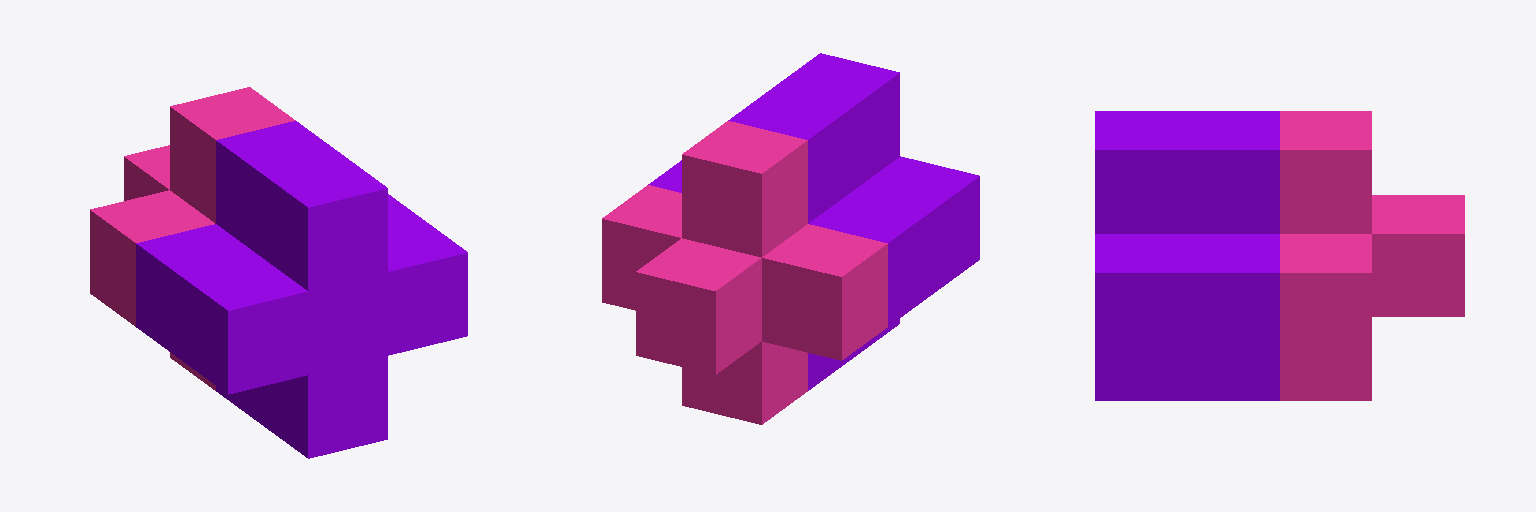
3 views of the same model, side by side, from view 1: azimuth 30°, elevation 25°; view 2: azimuth 150°, elevation 25°; view 3: azimuth 270°, elevation 25° (orthographic).
Visible parts, largest first — view 1: object 1; view 2: object 1; view 3: object 1.
Part boxes in pixels (left/top/right/bottom): object 1: left=90, top=87, right=467, bottom=458; object 1: left=602, top=53, right=979, bottom=424; object 1: left=1095, top=111, right=1464, bottom=400.
Bounding box in the file's own units: 0.3 × 0.3 × 0.4.
1 materials, 1 textured.